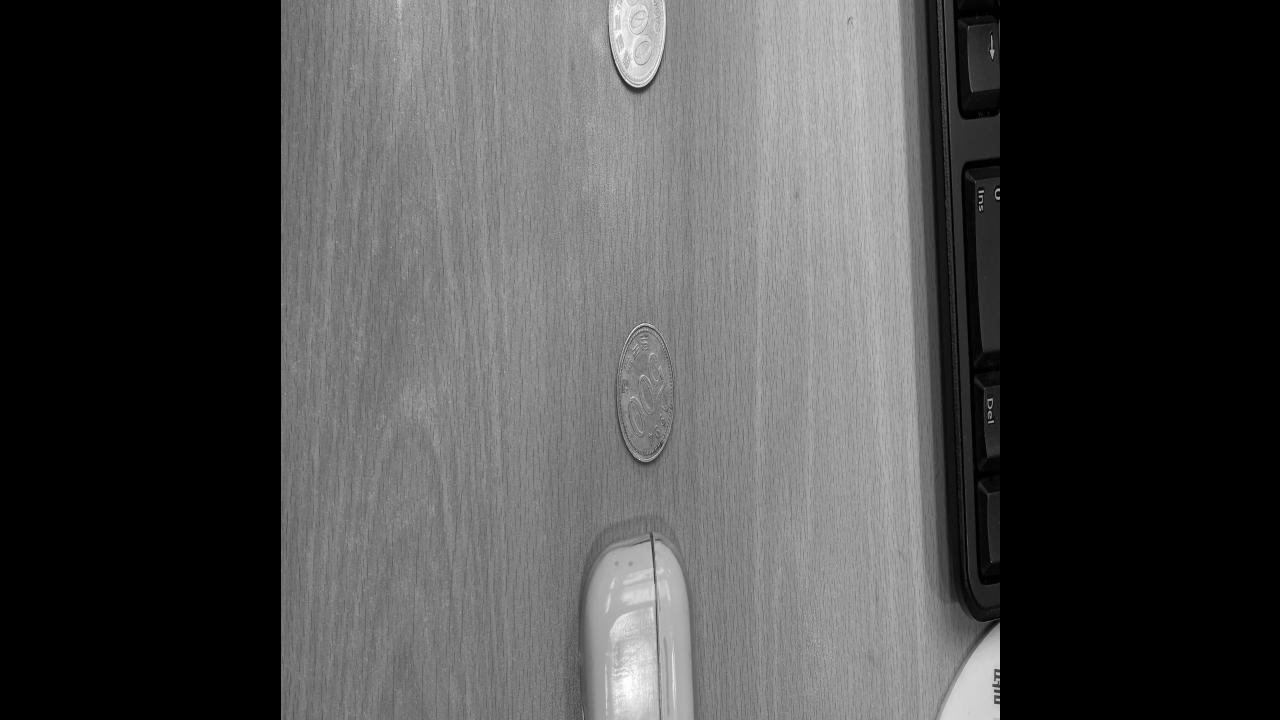coin: (616, 322, 674, 461), (607, 0, 665, 91)
